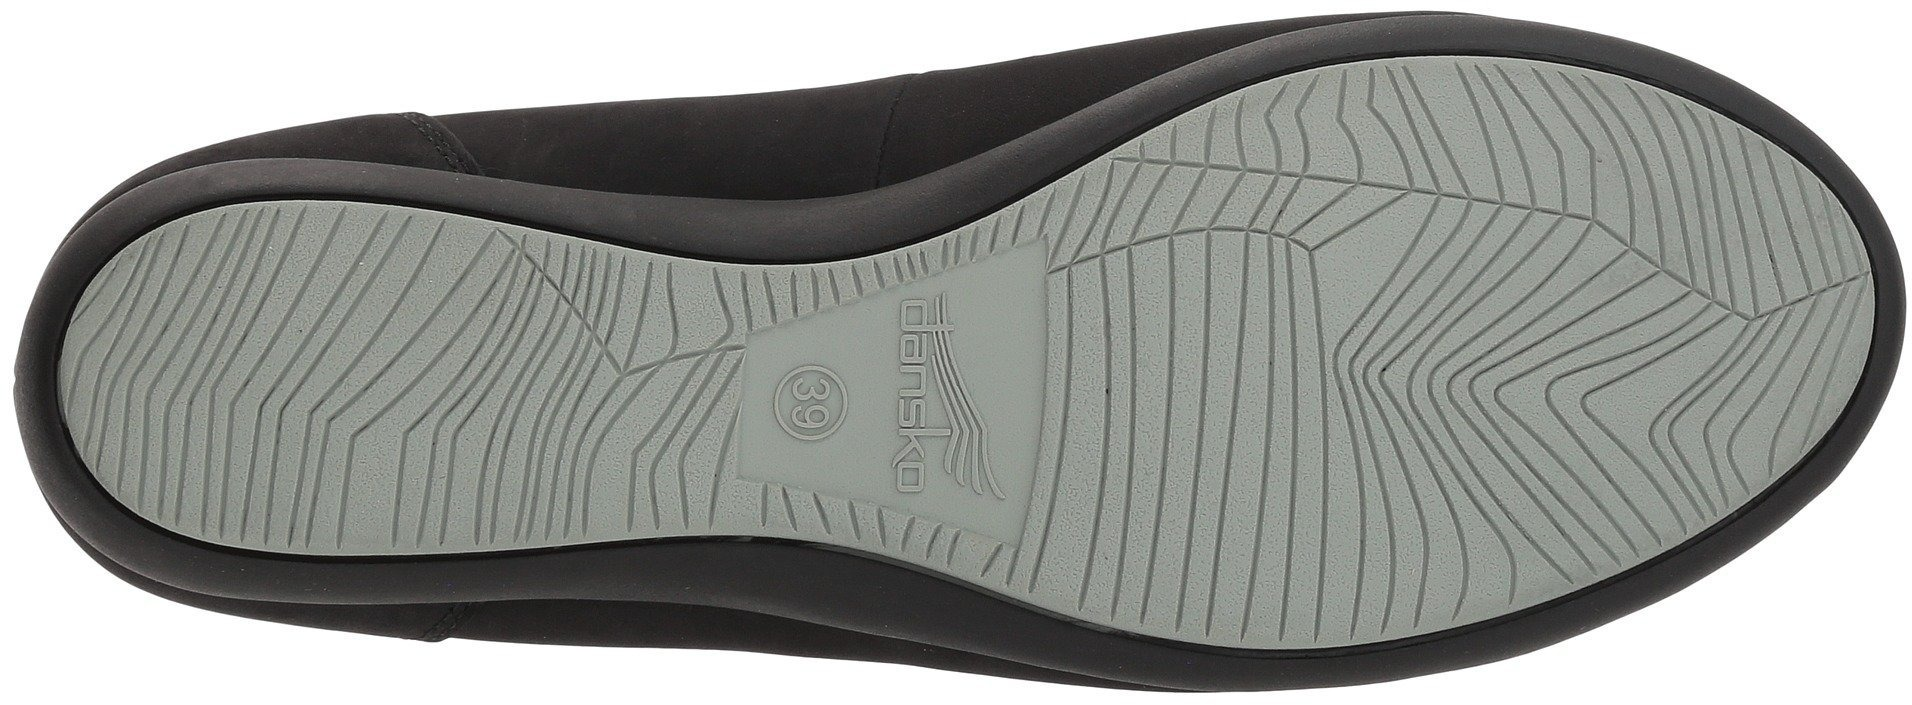circle: (762, 348, 873, 457)
line: (1006, 151, 1412, 642), (51, 198, 506, 551)
text: (883, 292, 946, 504), (789, 377, 836, 426)
